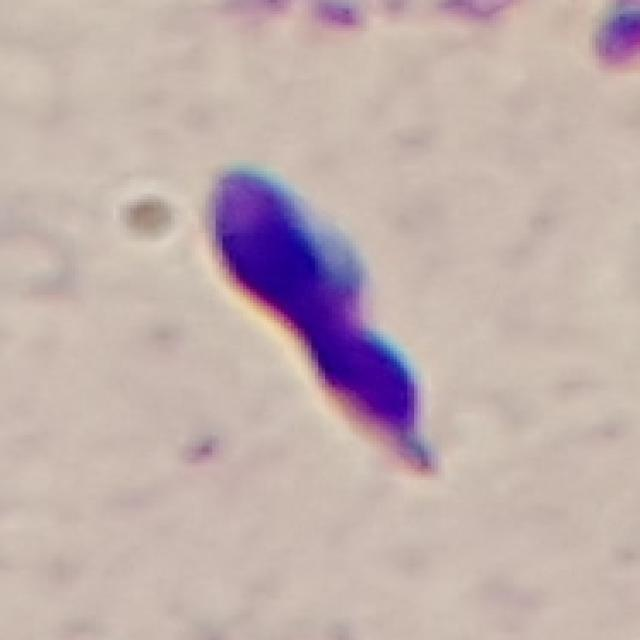non-sperm: (207, 171, 440, 472)
